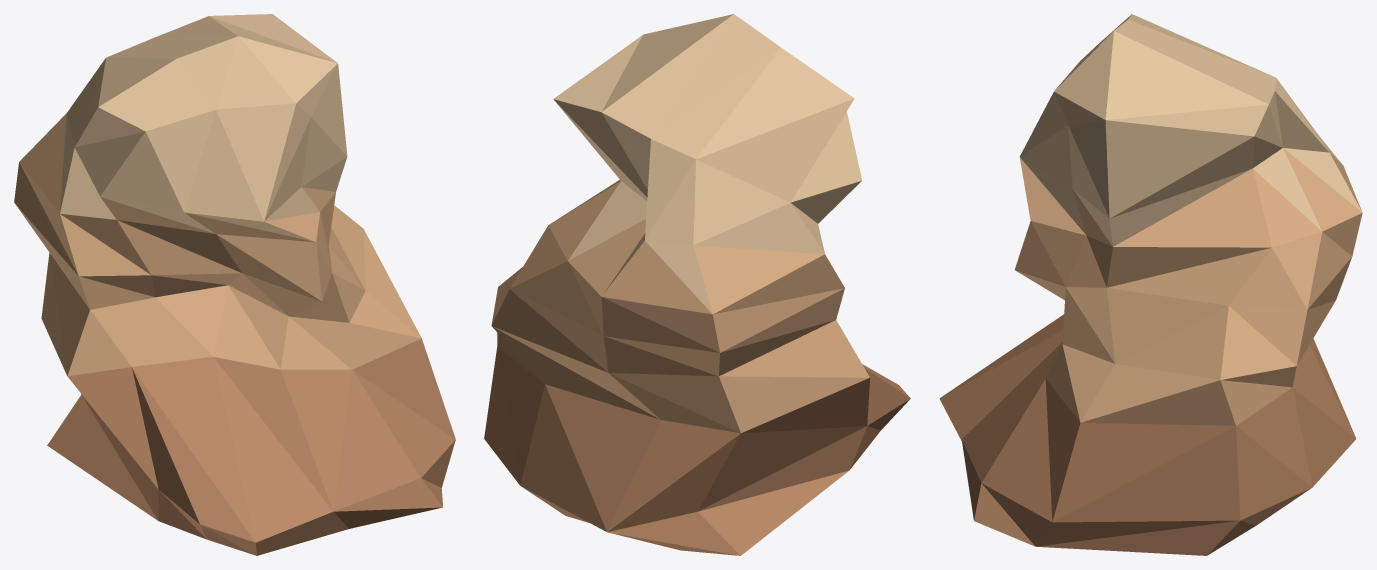
The model's file is canyon-1-5.glb.
3 renders of one model, left to right at view 1: azimuth 30°, elevation 25°; view 2: azimuth 150°, elevation 25°; view 3: azimuth 270°, elevation 25°, orthographic. The views are drawn at different scales.
Visible parts, largest first — view 1: canyon-1-5; view 2: canyon-1-5; view 3: canyon-1-5.
Boxes of the visible parts, bbox=[...] form: canyon-1-5: bbox=[14, 14, 455, 555]; canyon-1-5: bbox=[484, 14, 910, 555]; canyon-1-5: bbox=[939, 14, 1362, 555].
Bounding box in the file's own units: 20.77 × 28 × 23.53.
